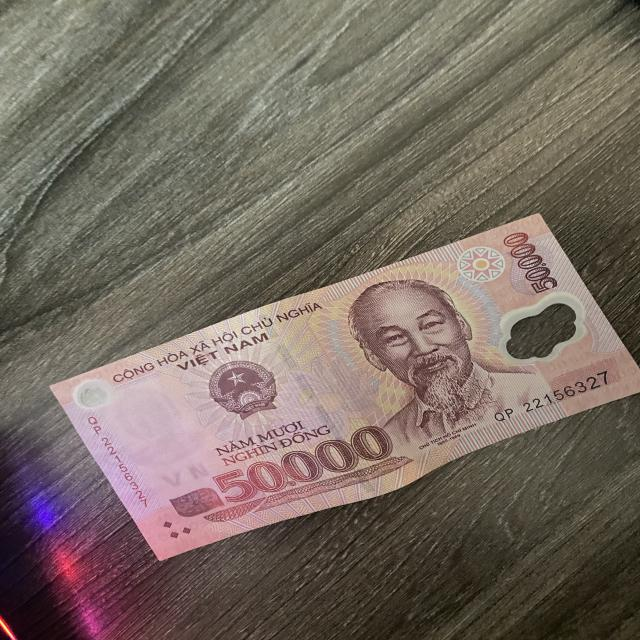50 000 VND: (50, 214, 640, 562)
